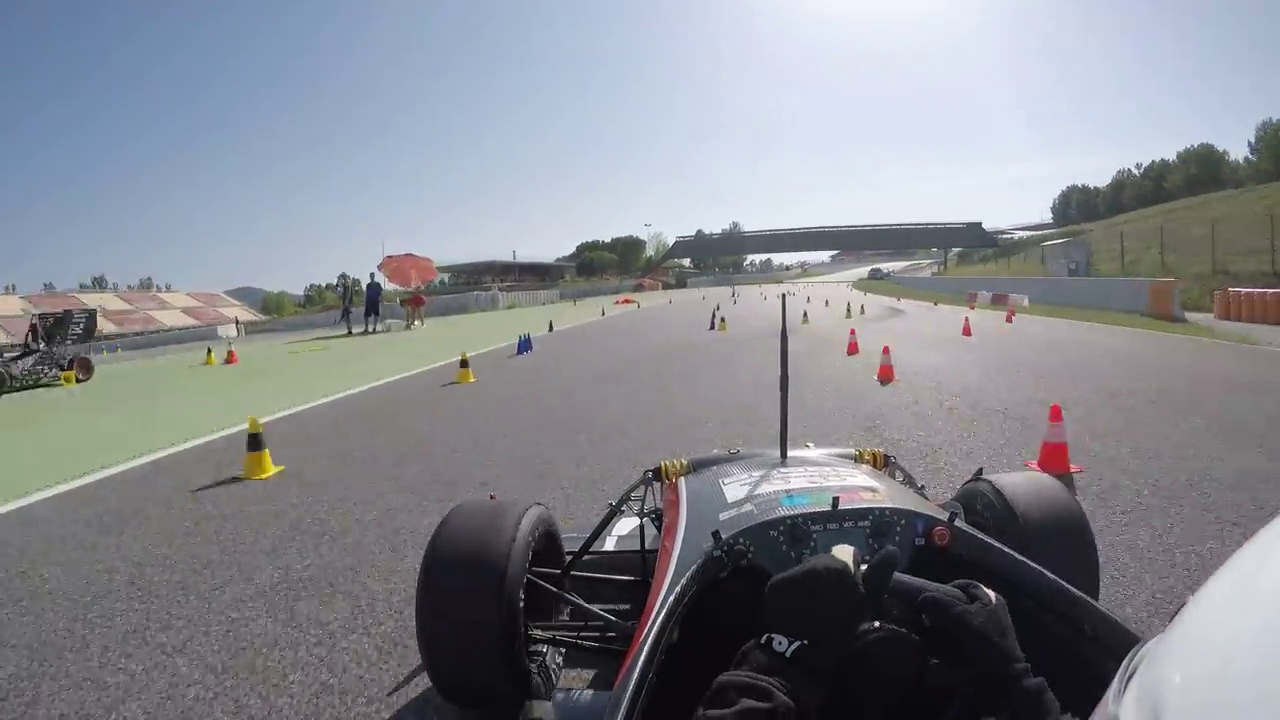Cone: (1029, 404, 1084, 475), (238, 414, 284, 484), (871, 343, 899, 381), (456, 348, 477, 385)
